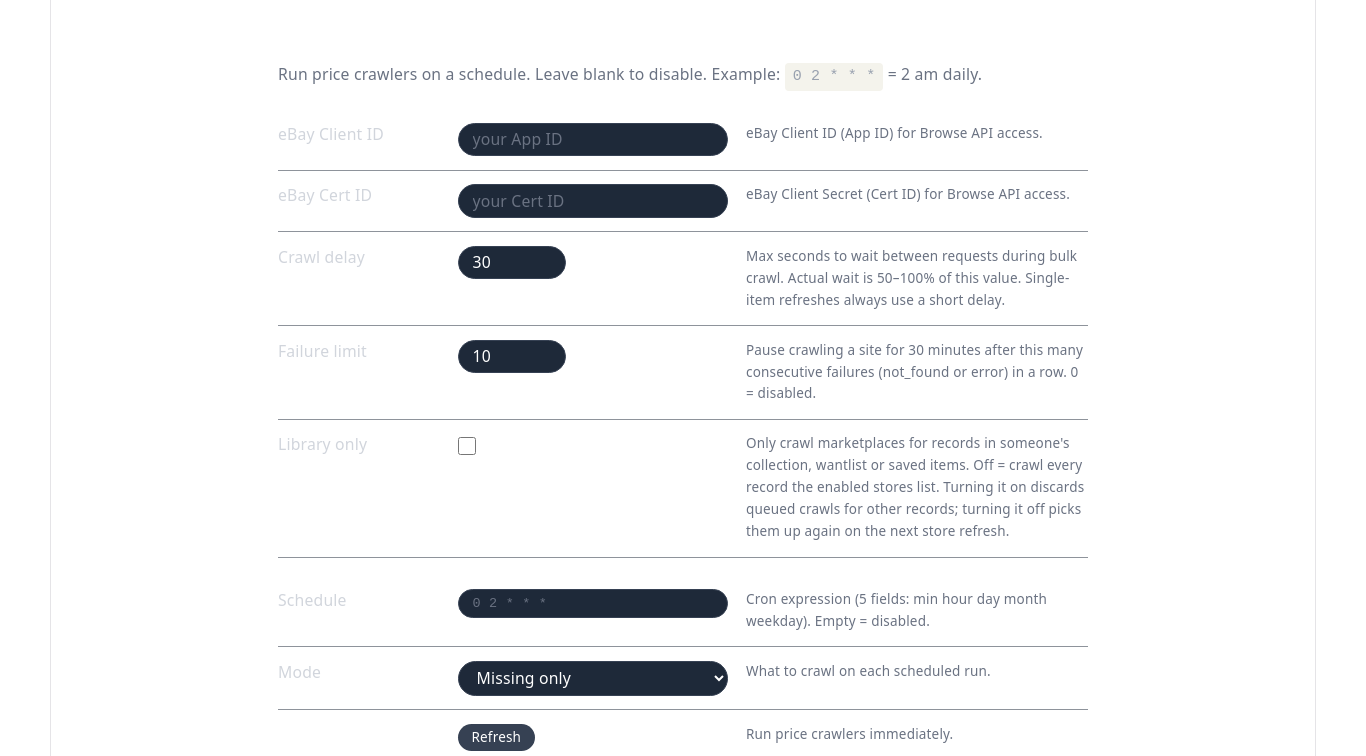
Settings › shows a clean error message (not raw JSON) when an auto-save fails
In the password field named "eBay Client ID": (593, 140) [458,123,728,156], type "new-app-id"
Wait 800 ms
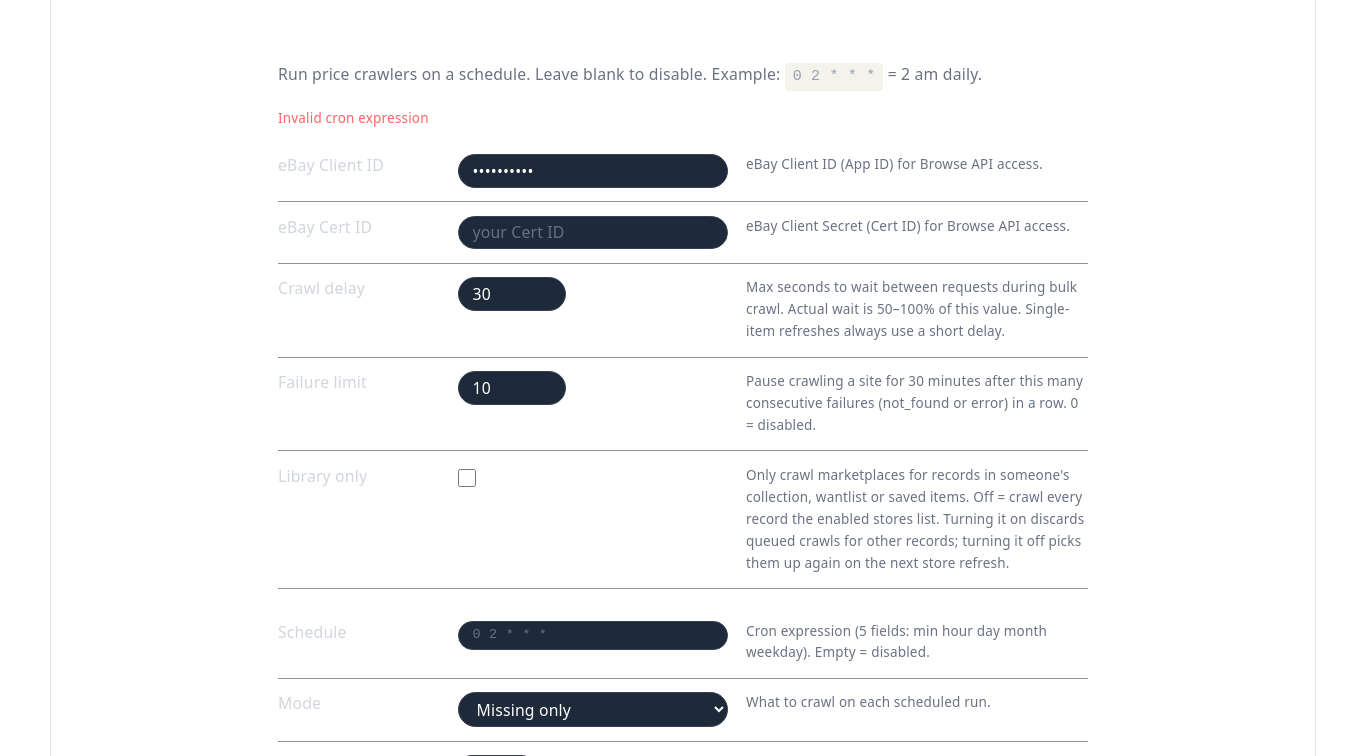
Expected: the text "Invalid cron expression" is shown, [278,109,429,127]
